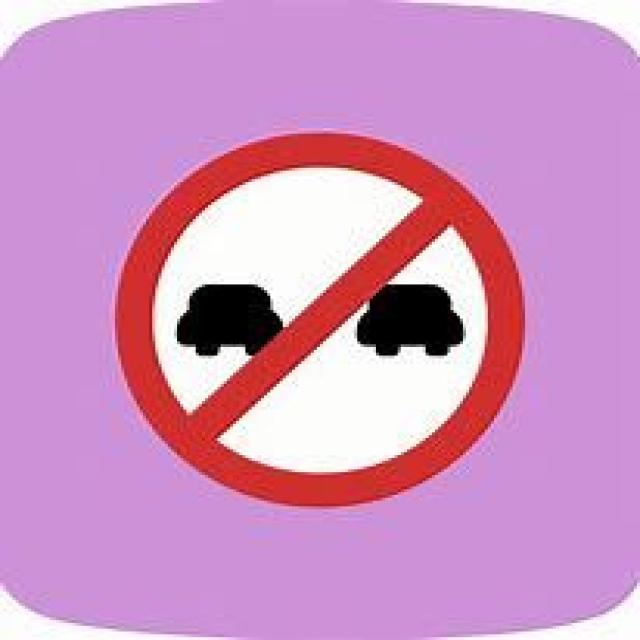no_stop: (118, 131, 525, 503)
